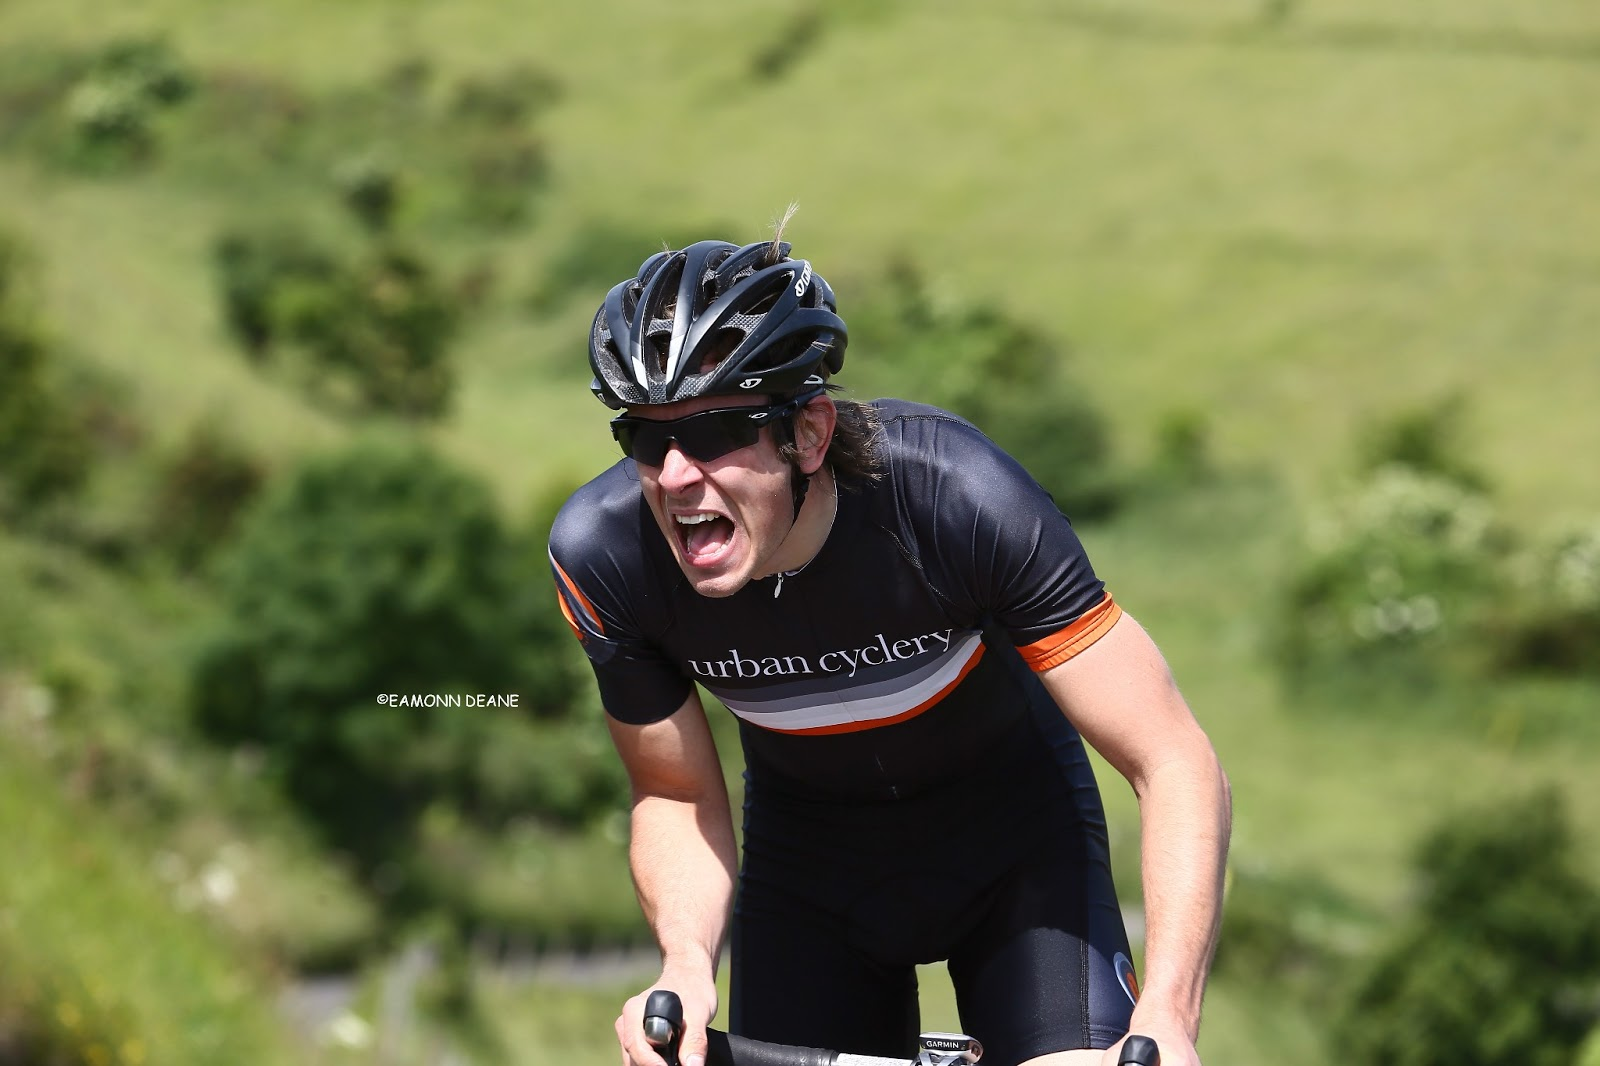helmet: (586, 233, 845, 412)
